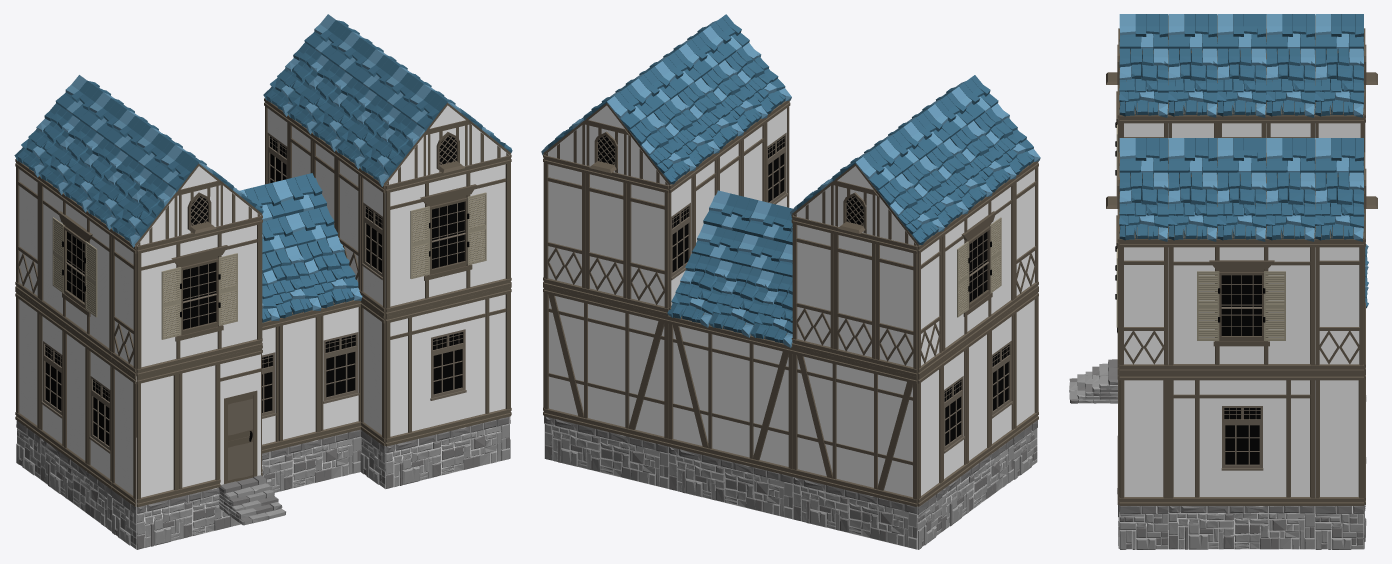
File: House_10_full.fbx
3 renders of one model, left to right at view 1: azimuth 30°, elevation 25°; view 2: azimuth 150°, elevation 25°; view 3: azimuth 270°, elevation 25°, orthographic. The views are drawn at different scales.
Visible parts, largest first — view 1: WINDOW_07_3, WINDOW_07_6, WINDOW_03_2, WINDOW_07_4, WALL_03_4, WALL_03_9, WALL_03_3, FOUNDATION_02_25, DOOR_01_3, WINDOW_04_6, FOUNDATION_02_24, FOUNDATION_02_26 (+53 smaller); view 2: WALL_02_3, WALL_02_2, WALL_02_4, WINDOW_07_4, WALL_01_4, WALL_01_16, WALL_01_10, WALL_01_5, WALL_01_3, WALL_01_15, FOUNDATION_02_29, FOUNDATION_02_28 (+51 smaller); view 3: WINDOW_07_5, WINDOW_03_3, WALL_01_11, WALL_03_11, WALL_01_9, WALL_03_12, FOUNDATION_02_31, ROOF_base_3, ROOF_base_13, ROOF_base_5, ROOF_base_15, ROOF_base_4 (+25 smaller).
Part boxes in pixels (<box>): WINDOW_07_3: <box>136,216,262,376</box>; WINDOW_07_6: <box>385,155,510,316</box>; WINDOW_03_2: <box>385,286,510,446</box>; WINDOW_07_4: <box>39,176,111,358</box>; WALL_03_4: <box>136,367,179,506</box>; WALL_03_9: <box>278,310,320,448</box>; WALL_03_3: <box>178,357,220,496</box>; FOUNDATION_02_25: <box>385,416,509,488</box>; DOOR_01_3: <box>220,347,261,484</box>; WINDOW_04_6: <box>320,300,361,438</box>; FOUNDATION_02_24: <box>261,429,361,492</box>; FOUNDATION_02_26: <box>136,487,241,549</box>; WALL_02_3: <box>668,315,792,476</box>; WALL_02_2: <box>792,346,917,506</box>; WALL_02_4: <box>543,286,668,446</box>; WINDOW_07_4: <box>942,178,1015,358</box>; WALL_01_4: <box>875,236,917,376</box>; WALL_01_16: <box>626,175,668,316</box>; WALL_01_10: <box>543,155,585,295</box>; WALL_01_5: <box>792,216,834,356</box>; WALL_01_3: <box>833,226,875,366</box>; WALL_01_15: <box>585,165,627,305</box>; FOUNDATION_02_29: <box>669,446,793,519</box>; FOUNDATION_02_28: <box>793,477,917,549</box>; WINDOW_07_5: <box>1168,239,1315,372</box>; WINDOW_03_3: <box>1168,373,1315,505</box>; WALL_01_11: <box>1119,239,1168,372</box>; WALL_03_11: <box>1119,373,1168,505</box>; WALL_01_9: <box>1315,239,1363,372</box>; WALL_03_12: <box>1315,373,1363,505</box>; FOUNDATION_02_31: <box>1168,506,1315,549</box>; ROOF_base_3: <box>1119,48,1168,117</box>; ROOF_base_13: <box>1119,172,1168,241</box>; ROOF_base_5: <box>1217,48,1266,117</box>; ROOF_base_15: <box>1217,172,1266,241</box>; ROOF_base_4: <box>1168,48,1217,117</box>.
Bounding box in the file's own units: 920 × 859 × 631.
